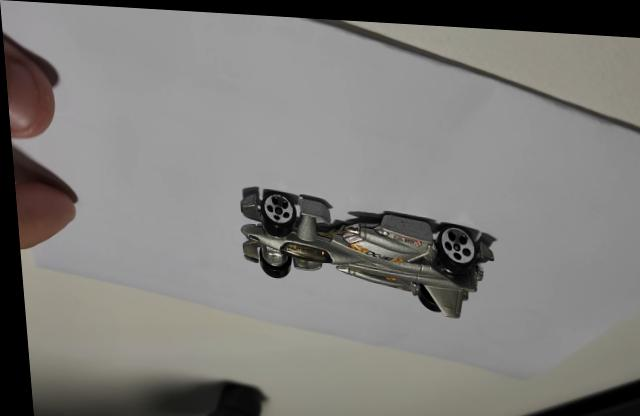05_DC121: (236, 183, 494, 312)
